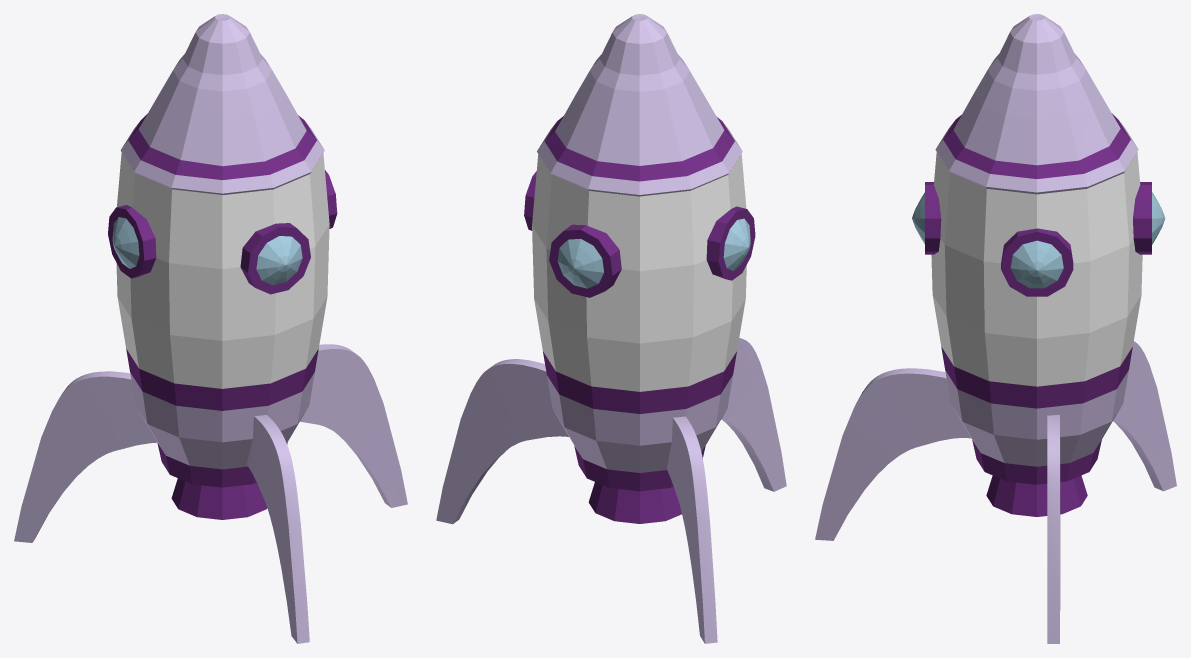
The model's file is shuttleSHD.gltf.
3 renders of one model, left to right at view 1: azimuth 30°, elevation 25°; view 2: azimuth 150°, elevation 25°; view 3: azimuth 270°, elevation 25°, orthographic.
Parts seen in each view (by area): view 1: body-Mat.4, top-Mat, Sweep.2, body-Mat.2 (×3), Sweep.1, body-Mat (×2), Sweep.3, Tube (×2), top-Mat.2, Tube.1-Mat.3 (×2); view 2: body-Mat.4, top-Mat, Sweep.1, body-Mat.2 (×3), body-Mat (×2), Sweep.2, Sweep.3, Tube (×2), top-Mat.2, Tube.1-Mat.3 (×2); view 3: body-Mat.4, top-Mat, Sweep.3, body-Mat.2 (×3), body-Mat (×2), Sweep.2, Tube (×3), top-Mat.2, Sweep.1, Tube.1-Mat.3.
Boxes of the visible parts, x1,y1,x2,y2 form: body-Mat.4: (116,153,329,388); top-Mat: (120,14,324,194); Sweep.2: (14,371,157,542); body-Mat.2 (×3): (126,349,318,519); Sweep.1: (300,344,407,507); body-Mat (×2): (130,372,314,469); Sweep.3: (246,415,309,643); Tube (×2): (108,205,310,294); top-Mat.2: (128,114,316,180); Tube.1-Mat.3 (×2): (112,217,302,285); body-Mat.4: (532,154,746,391); top-Mat: (537,14,742,196); Sweep.1: (436,359,568,524); body-Mat.2 (×3): (543,351,736,523); body-Mat (×2): (547,375,732,472); Sweep.2: (666,416,717,643); Sweep.3: (721,338,786,491); Tube (×2): (549,206,755,297); top-Mat.2: (544,116,734,181); Tube.1-Mat.3 (×2): (557,218,750,288); body-Mat.4: (931,152,1142,386); top-Mat: (935,14,1138,194); Sweep.3: (815,368,971,540); body-Mat.2 (×3): (941,347,1132,516); body-Mat (×2): (945,370,1128,466); Sweep.2: (1113,341,1176,491); Tube (×3): (925,182,1151,296); top-Mat.2: (943,113,1130,178); Sweep.1: (1047,414,1060,643); Tube.1-Mat.3: (1010,240,1063,288).
Size of the model in its own units: 23.1 by 35.57 by 21.84.
